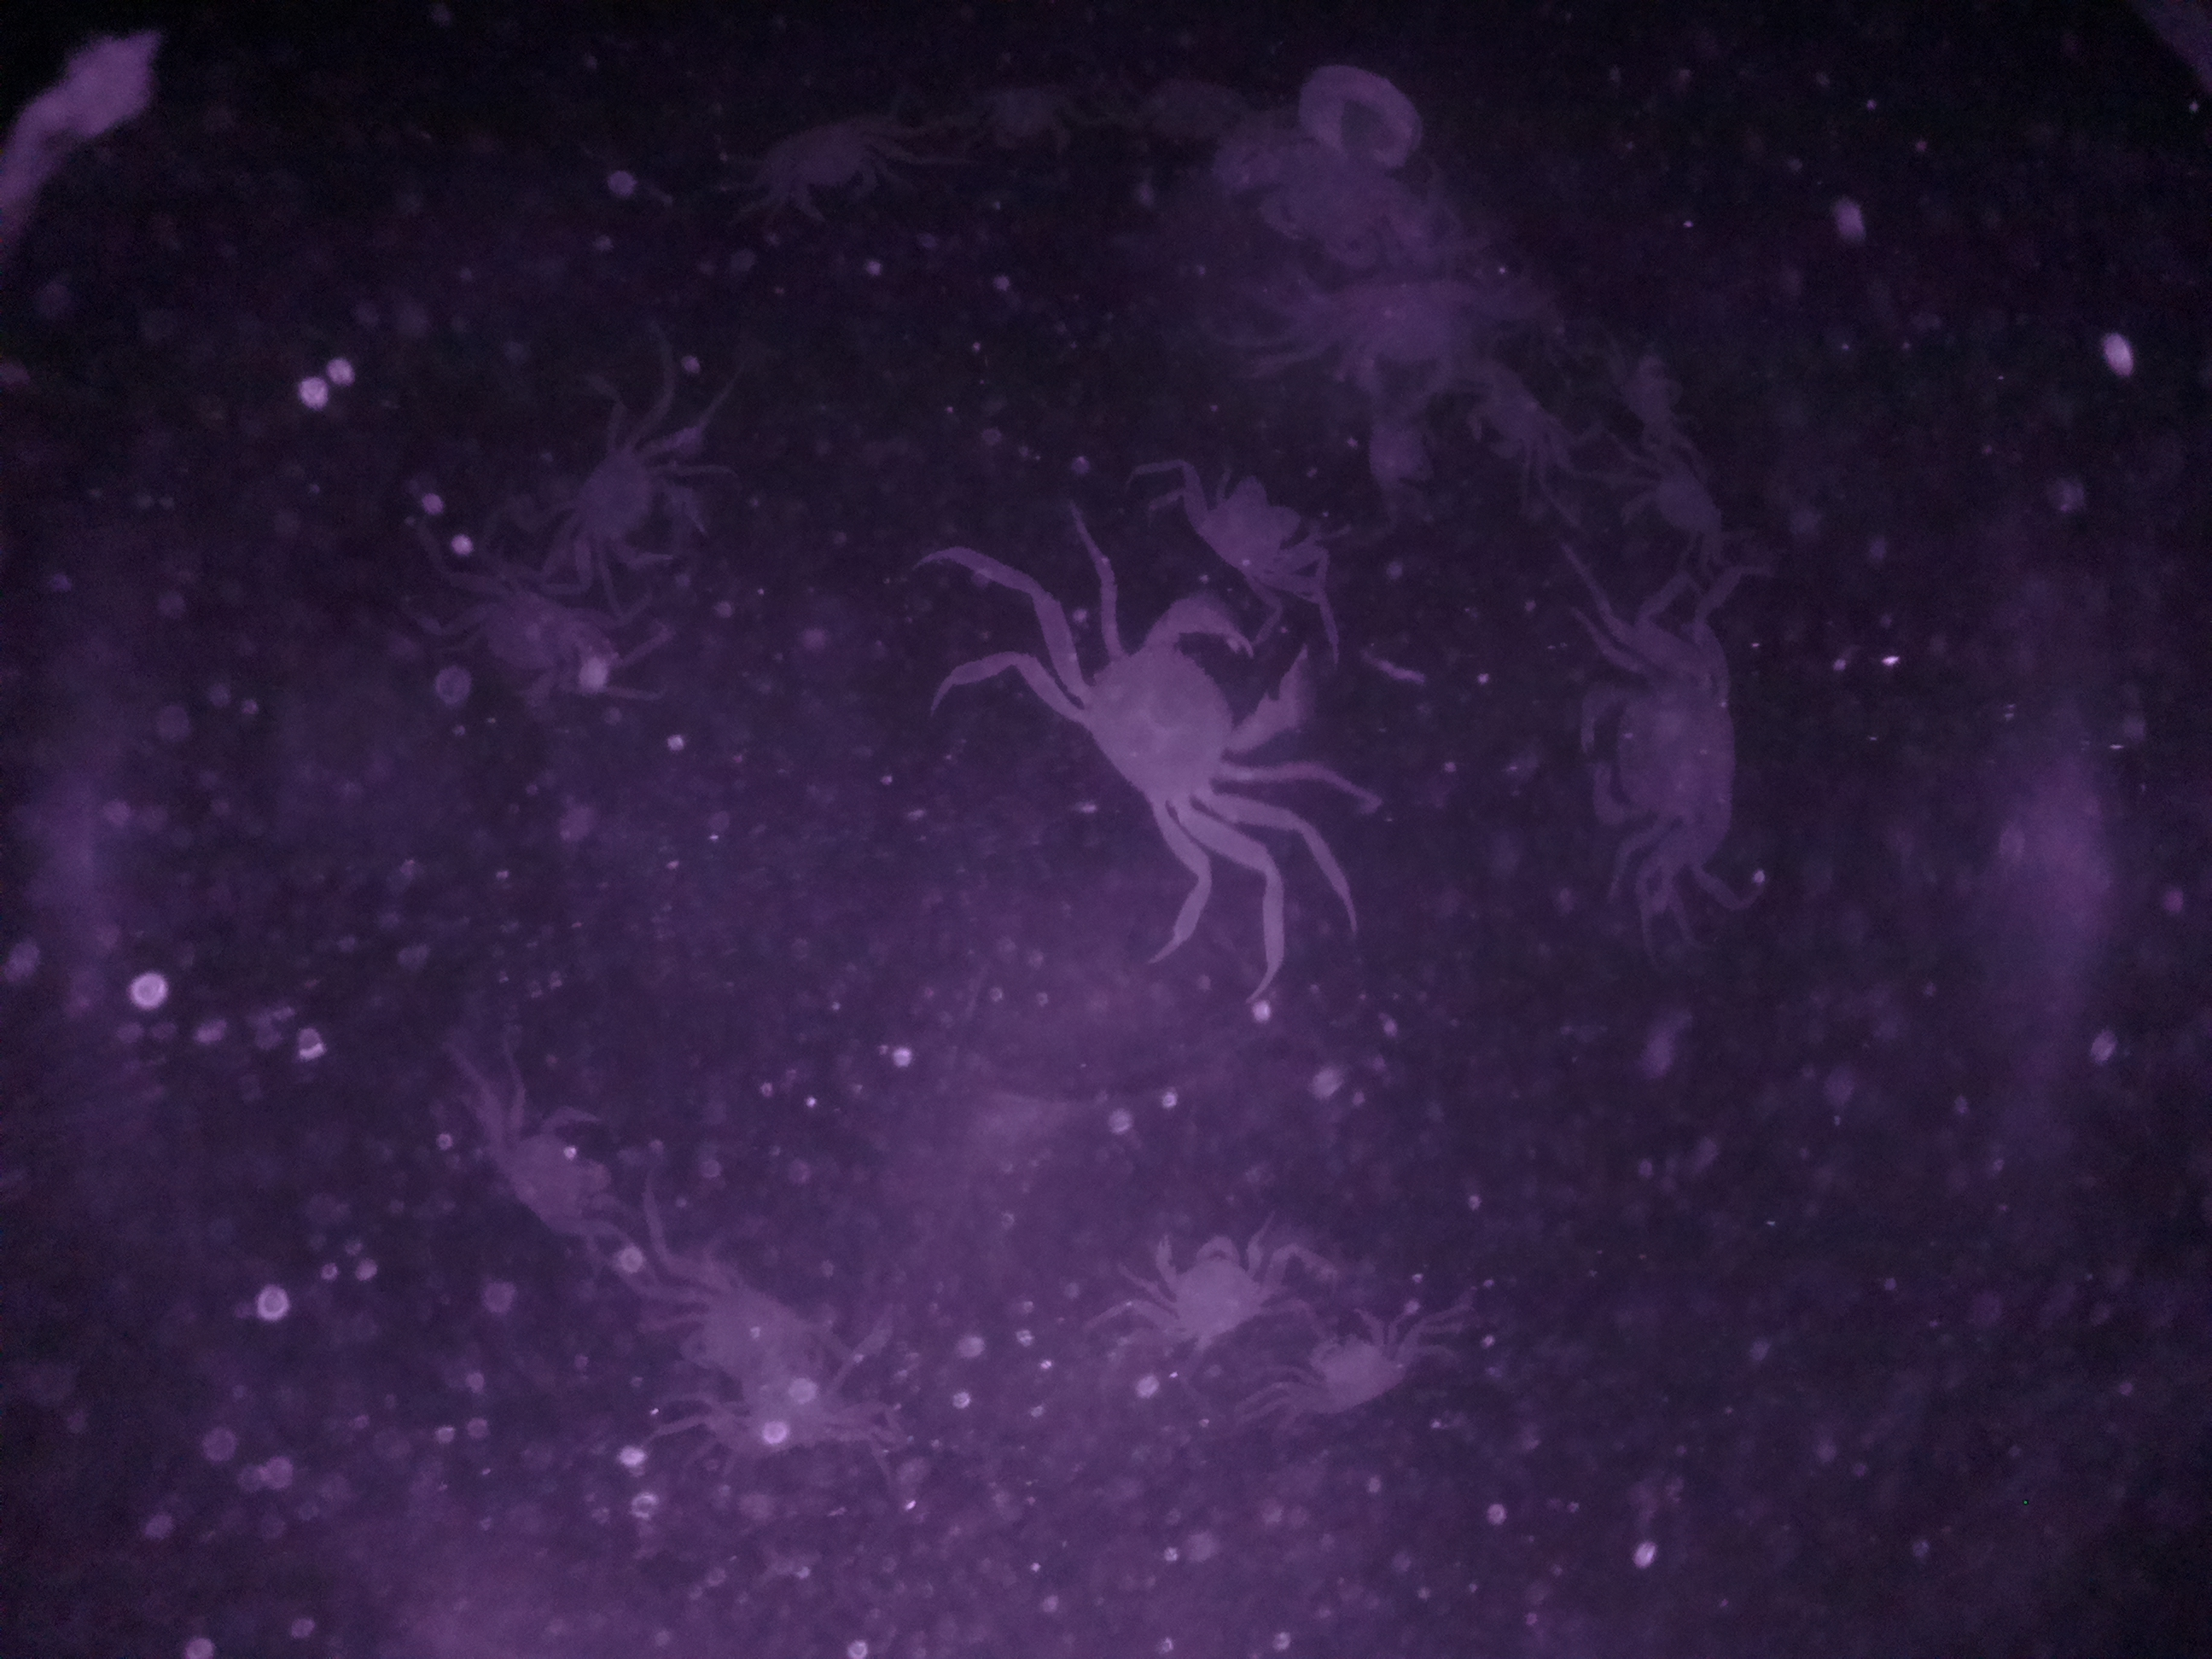Crab: (1033, 606, 1318, 873), (1571, 652, 1752, 870), (475, 1070, 648, 1279), (554, 430, 728, 592), (1181, 448, 1339, 626), (1130, 1209, 1289, 1364), (1271, 1291, 1442, 1432), (745, 105, 923, 232), (1611, 441, 1754, 586), (1460, 338, 1559, 488)
